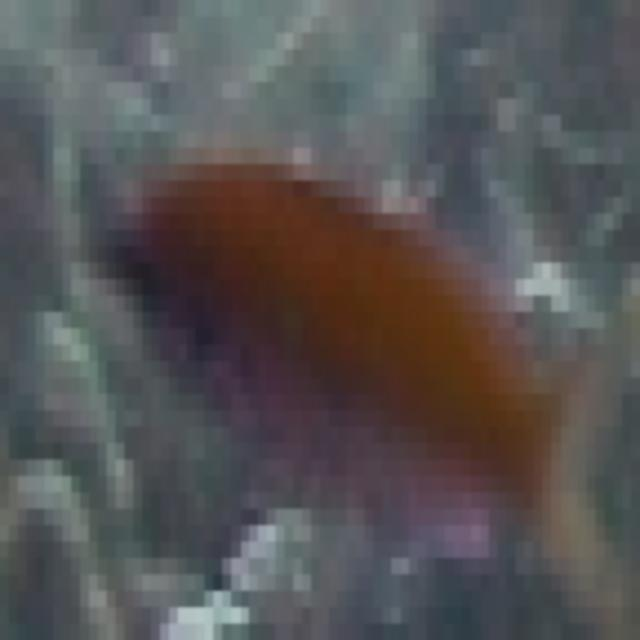fish: (9, 16, 640, 640)
